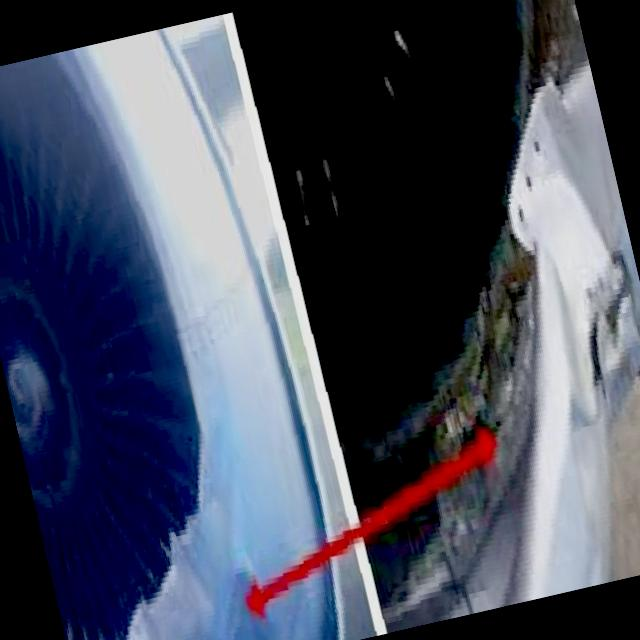dent: (524, 258, 640, 540)
